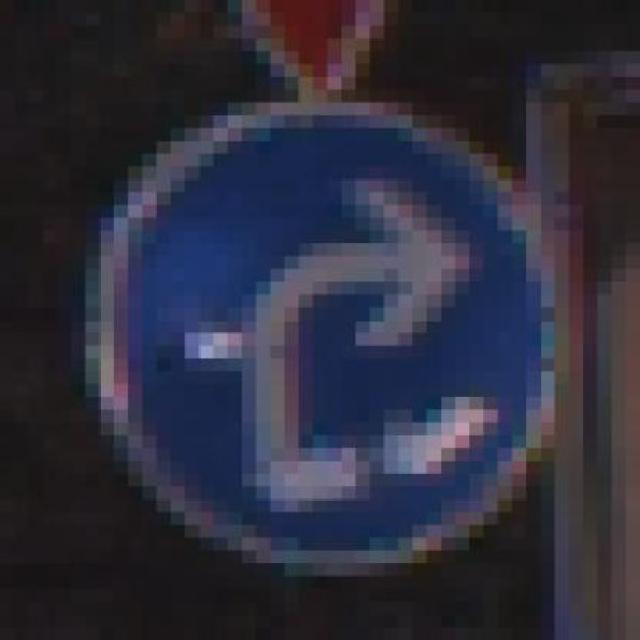Turn right ahead: (99, 102, 555, 576)
